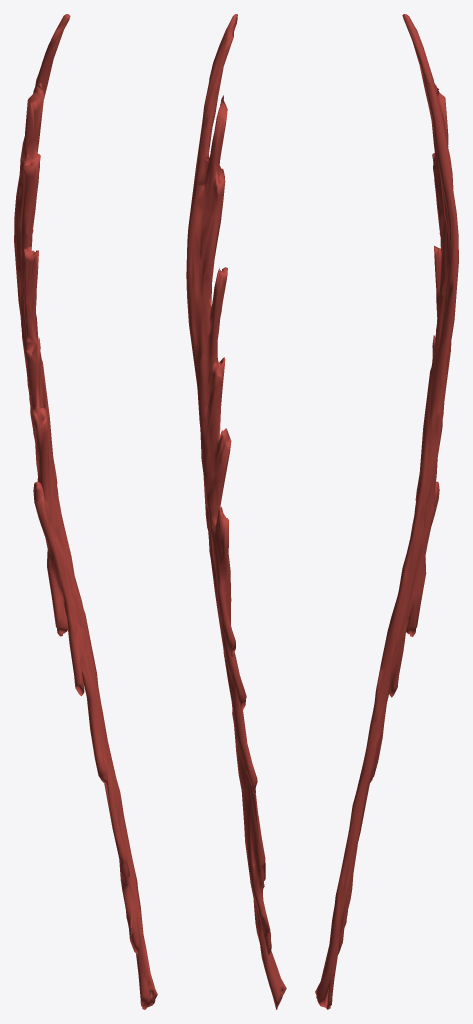
File: musculos-spinalis-thoracis-muscle-l.glb
3 renders of one model, left to right at view 1: azimuth 90°, elevation 25°; view 2: azimuth 150°, elevation 25°; view 3: azimuth 270°, elevation 25°, orthographic. The views are drawn at different scales.
Visible parts, largest first — view 1: Spinalis thoracis muscle.l; view 2: Spinalis thoracis muscle.l; view 3: Spinalis thoracis muscle.l.
Boxes of the visible parts, x1,y1,x2,y2 form: Spinalis thoracis muscle.l: (14,14,157,1009); Spinalis thoracis muscle.l: (186,14,286,1009); Spinalis thoracis muscle.l: (315,14,458,1009).
Bounding box in the file's own units: 0.0126 × 0.3775 × 0.0494.
